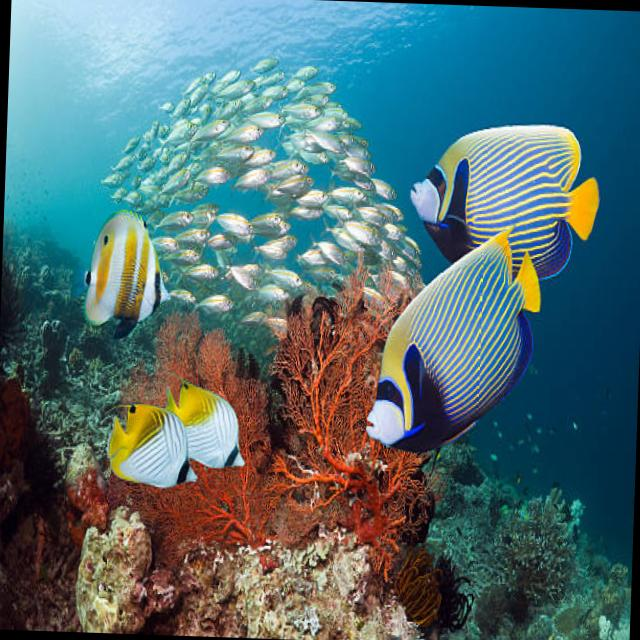AngelFish: (364, 226, 542, 452), (408, 120, 601, 282), (83, 211, 176, 340), (101, 402, 198, 492), (165, 378, 245, 472)
